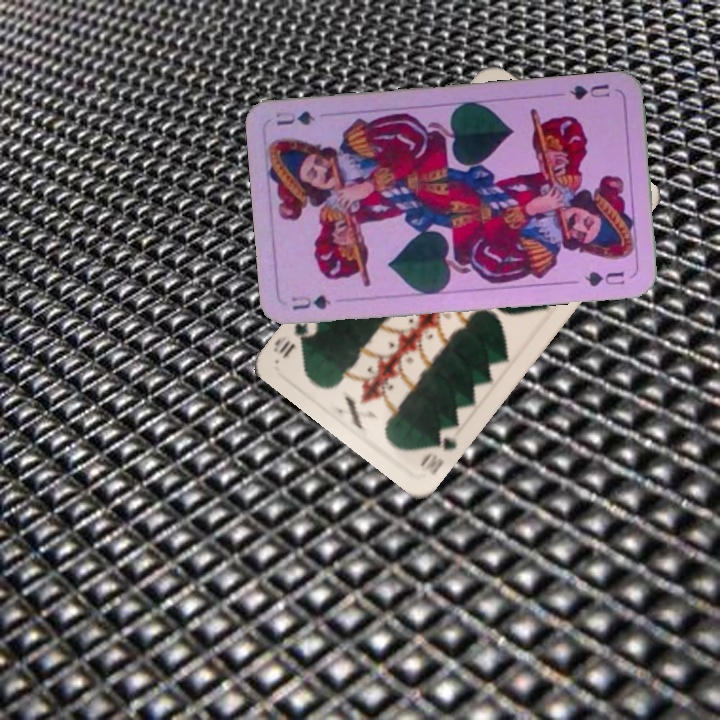G10: (415, 422, 460, 478)
GU: (565, 80, 613, 103), (287, 291, 334, 313)
